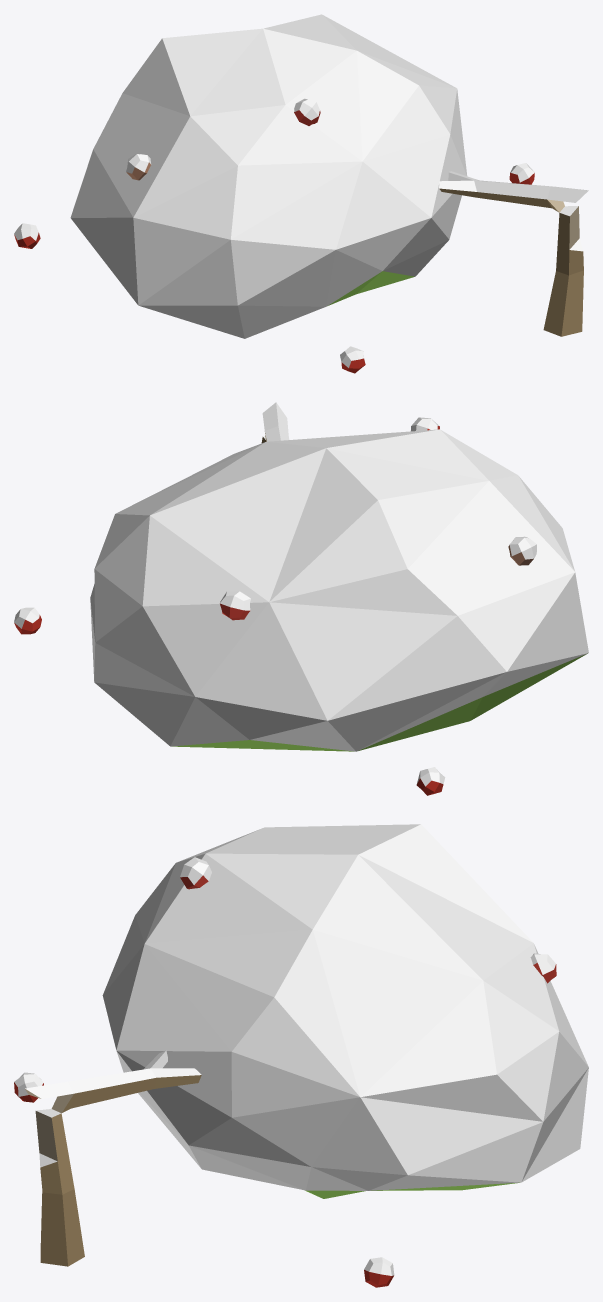
Rendered from Apple_Tree_Apples_crk_m_Snow_01_LOD.fbx.
3 views of the same model, one above another, from view 1: azimuth 30°, elevation 25°; view 2: azimuth 150°, elevation 25°; view 3: azimuth 270°, elevation 25° (orthographic). The views are drawn at different scales.
Parts seen in each view (by area): view 1: Apple_Tree_Apples_crk_m_Snow_01_LOD0; view 2: Apple_Tree_Apples_crk_m_Snow_01_LOD0; view 3: Apple_Tree_Apples_crk_m_Snow_01_LOD0.
Part boxes in pixels (<box>): Apple_Tree_Apples_crk_m_Snow_01_LOD0: <box>14,14,588,373</box>; Apple_Tree_Apples_crk_m_Snow_01_LOD0: <box>14,402,588,795</box>; Apple_Tree_Apples_crk_m_Snow_01_LOD0: <box>14,824,588,1287</box>.
Size of what is drawn, in the model's own units: 598 by 310 by 539.
